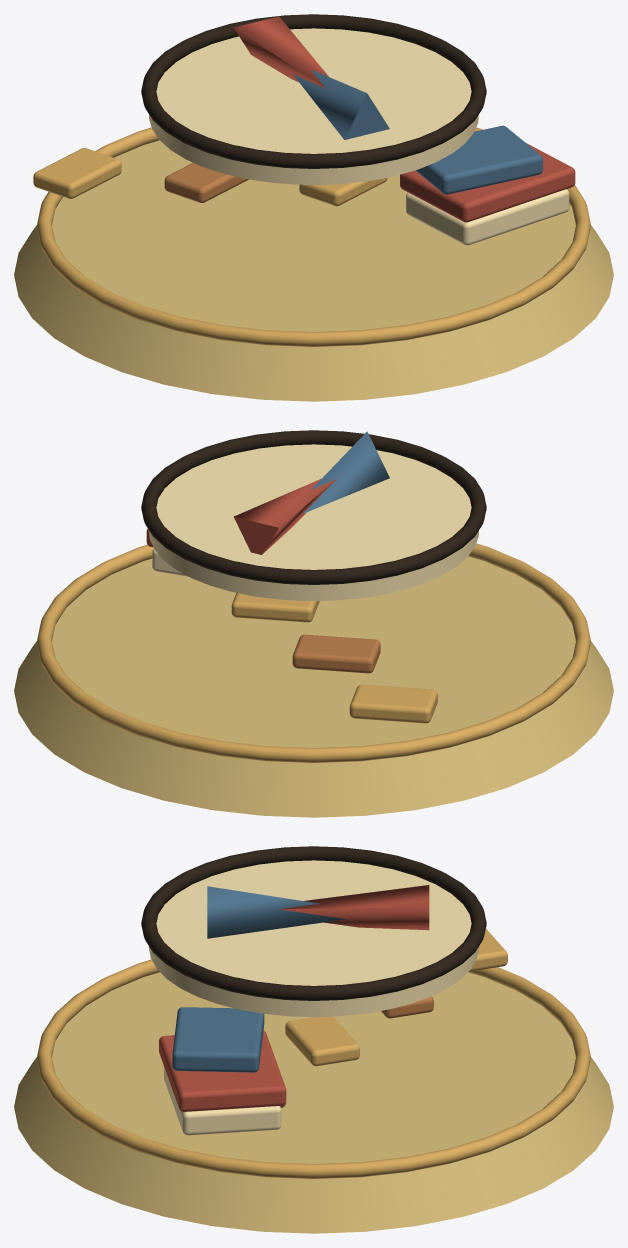
Rendered from compass-path.glb.
The picture shows the model from 3 angles, top to bottom: view 1: azimuth 30°, elevation 25°; view 2: azimuth 150°, elevation 25°; view 3: azimuth 270°, elevation 25°; orthographic projection.
Visible parts, largest first — view 1: asset-plinth, compass-face, plinth-rim, compass-rim, path-stone (×3), book-cover-small, book-cover, book-pages, compass-needle-red, compass-needle-blue; view 2: asset-plinth, compass-face, plinth-rim, compass-rim, path-stone (×3), compass-needle-red, compass-needle-blue; view 3: asset-plinth, compass-face, plinth-rim, compass-rim, book-cover-small, book-cover, compass-needle-red, path-stone (×3), compass-needle-blue, book-pages.
Part boxes in pixels (x1=…): asset-plinth: x1=14, y1=140, x2=613, y2=401; compass-face: x1=149, y1=28, x2=478, y2=184; plinth-rim: x1=37, y1=127, x2=590, y2=346; compass-rim: x1=141, y1=14, x2=486, y2=168; path-stone (×3): x1=33, y1=148, x2=387, y2=206; book-cover-small: x1=415, y1=125, x2=542, y2=194; book-cover: x1=400, y1=143, x2=575, y2=222; book-pages: x1=406, y1=189, x2=569, y2=245; compass-needle-red: x1=233, y1=16, x2=328, y2=88; compass-needle-blue: x1=293, y1=69, x2=389, y2=139; asset-plinth: x1=14, y1=556, x2=613, y2=817; compass-face: x1=149, y1=444, x2=478, y2=600; plinth-rim: x1=37, y1=543, x2=590, y2=762; compass-rim: x1=141, y1=430, x2=486, y2=584; path-stone (×3): x1=231, y1=593, x2=437, y2=723; compass-needle-red: x1=234, y1=478, x2=336, y2=554; compass-needle-blue: x1=303, y1=431, x2=389, y2=513; asset-plinth: x1=14, y1=972, x2=613, y2=1233; compass-face: x1=148, y1=860, x2=479, y2=1016; plinth-rim: x1=37, y1=959, x2=590, y2=1178; compass-rim: x1=141, y1=846, x2=486, y2=1000; book-cover-small: x1=172, y1=1007, x2=264, y2=1072; book-cover: x1=159, y1=1030, x2=286, y2=1111; compass-needle-red: x1=279, y1=885, x2=429, y2=930; path-stone (×3): x1=285, y1=928, x2=507, y2=1066; compass-needle-blue: x1=207, y1=886, x2=345, y2=938; book-pages: x1=164, y1=1067, x2=281, y2=1135.
Bounding box in the file's own units: 2.76 × 1.12 × 2.76.
